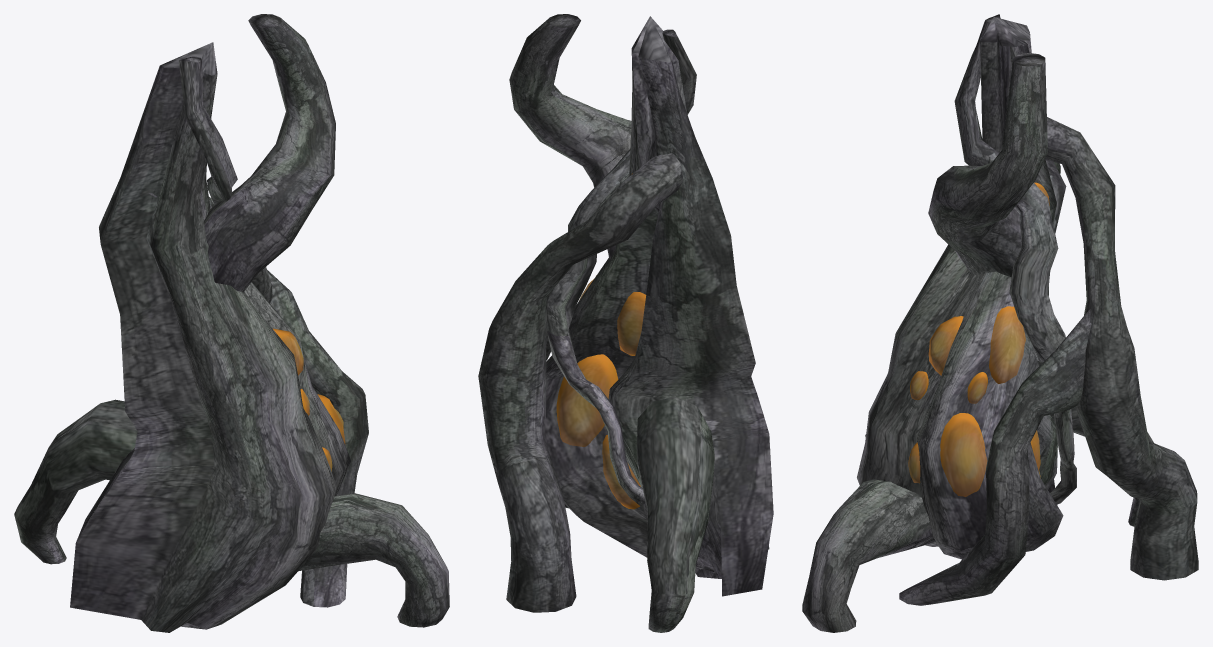
3 views of the same model, side by side, from view 1: azimuth 30°, elevation 25°; view 2: azimuth 150°, elevation 25°; view 3: azimuth 270°, elevation 25° (orthographic). The views are drawn at different scales.
Parts seen in each view (by area): view 1: pCylinder2, pCylinder4, pCylinder5, pasted__pCylinder5, pCylinder7, pCylinder3; view 2: pCylinder2, pCylinder6, pasted__pCylinder5, pCylinder4, pCylinder3, pasted__pasted__pDisc1 (×2), pasted__pDisc1; view 3: pCylinder2, pCylinder6, pCylinder7, pCylinder4, pCylinder5, pCylinder3, pasted__pasted__pasted__pDisc1 (×2), pasted__pasted__pDisc1.
Part boxes in pixels (x1,y1,x2,y2): pCylinder2: (70, 42, 350, 632); pCylinder4: (204, 14, 335, 292); pCylinder5: (298, 493, 449, 627); pasted__pCylinder5: (14, 399, 137, 564); pCylinder7: (267, 270, 368, 607); pCylinder3: (178, 56, 272, 302); pCylinder2: (545, 16, 773, 596); pCylinder6: (478, 153, 682, 612); pasted__pCylinder5: (636, 397, 714, 632); pCylinder4: (509, 14, 631, 259); pCylinder3: (546, 29, 714, 571); pasted__pasted__pDisc1 (×2): (556, 292, 646, 446); pasted__pDisc1: (602, 435, 640, 509); pCylinder2: (857, 17, 1066, 559); pCylinder6: (1045, 117, 1198, 580); pCylinder7: (899, 309, 1091, 605); pCylinder4: (928, 53, 1047, 277); pCylinder5: (802, 479, 935, 632); pCylinder3: (954, 14, 1076, 504); pasted__pasted__pasted__pDisc1 (×2): (928, 316, 987, 496); pasted__pasted__pDisc1: (989, 306, 1025, 383).
Size of the model in its own units: 14.74 by 26.54 by 17.42.
Materials: 4 (4 with a texture image).
